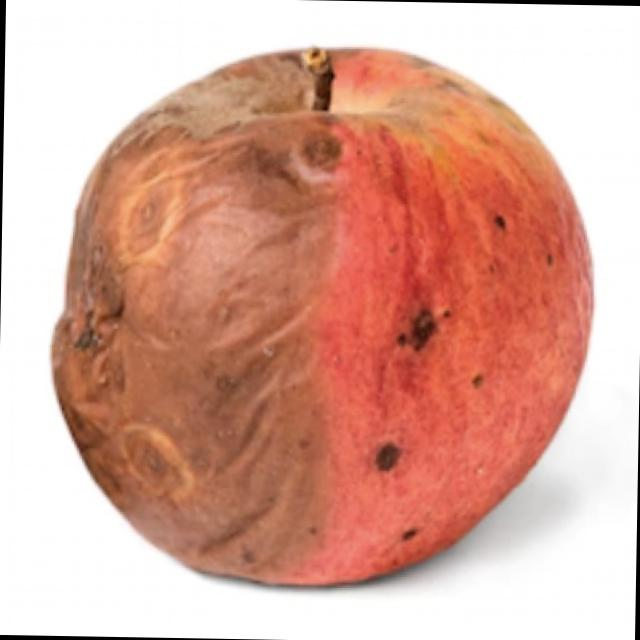rotten_apple: (47, 34, 599, 597)
